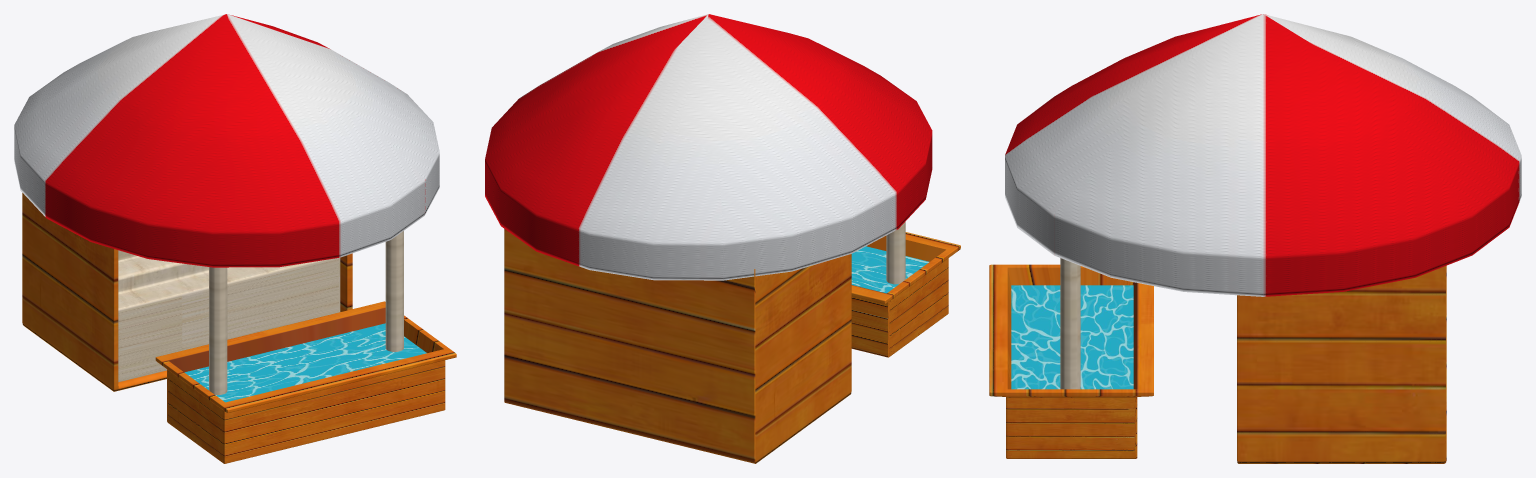
The model's file is kawaiine_stand_peche.fbx.
3 renders of one model, left to right at view 1: azimuth 30°, elevation 25°; view 2: azimuth 150°, elevation 25°; view 3: azimuth 270°, elevation 25°, orthographic. The views are drawn at different scales.
Parts seen in each view (by area): view 1: kawaiine_stand:stand_toit, stand_peche, kawaiine_stand:stand_tir_escalier_cibles, kawaiine_stand:stand_fond, eau, stand_poteau_02, stand_poteau_01; view 2: kawaiine_stand:stand_toit, kawaiine_stand:stand_fond, stand_peche, eau, stand_poteau_02; view 3: kawaiine_stand:stand_toit, kawaiine_stand:stand_fond, stand_peche, eau, stand_poteau_01.
Boxes of the visible parts, x1=… form: kawaiine_stand:stand_toit: x1=14, y1=14, x2=439, y2=267; stand_peche: x1=155, y1=301, x2=456, y2=463; kawaiine_stand:stand_tir_escalier_cibles: x1=118, y1=250, x2=340, y2=382; kawaiine_stand:stand_fond: x1=22, y1=193, x2=352, y2=391; eau: x1=184, y1=323, x2=426, y2=402; stand_poteau_02: x1=209, y1=267, x2=227, y2=394; stand_poteau_01: x1=385, y1=231, x2=403, y2=351; kawaiine_stand:stand_toit: x1=485, y1=14, x2=932, y2=280; kawaiine_stand:stand_fond: x1=504, y1=229, x2=851, y2=463; stand_peche: x1=851, y1=232, x2=960, y2=357; eau: x1=851, y1=246, x2=929, y2=293; stand_poteau_02: x1=886, y1=221, x2=905, y2=284; kawaiine_stand:stand_toit: x1=1005, y1=14, x2=1521, y2=296; kawaiine_stand:stand_fond: x1=1237, y1=265, x2=1446, y2=463; stand_peche: x1=989, y1=264, x2=1153, y2=458; eau: x1=1011, y1=285, x2=1133, y2=389; stand_poteau_01: x1=1060, y1=258, x2=1080, y2=389.
Size of the model in its own units: 89.32 by 80.35 by 100.
Materials: 6 (6 with a texture image).
